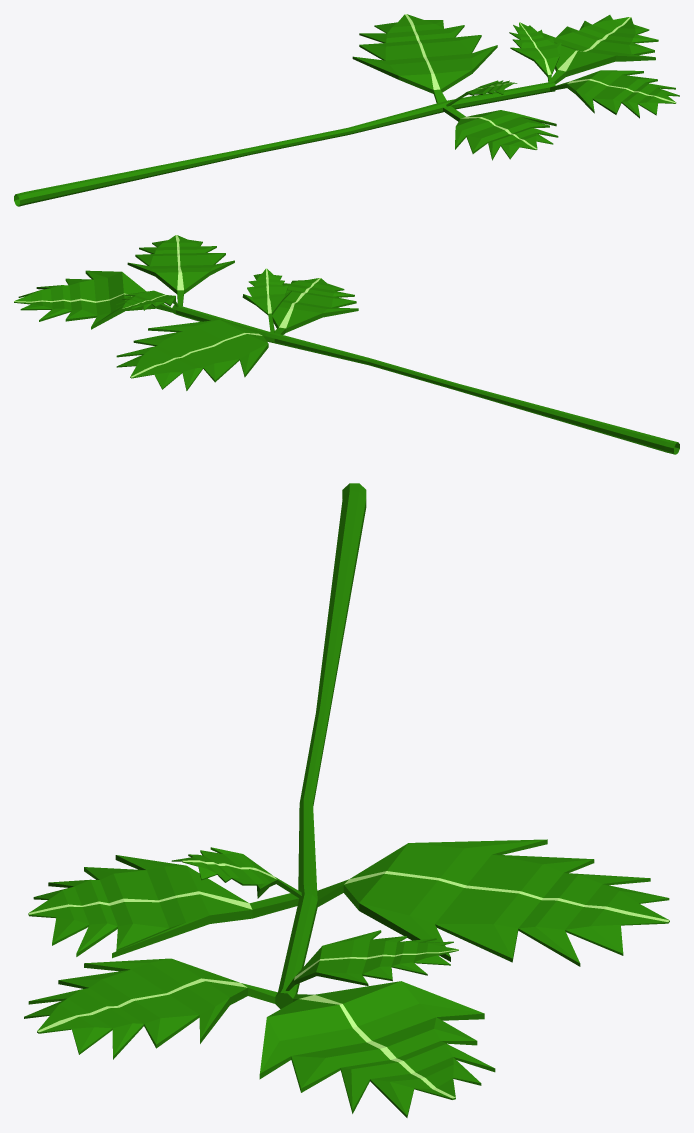
File: parsley01.fbx
3 views of the same model, one above another, from view 1: azimuth 30°, elevation 25°; view 2: azimuth 150°, elevation 25°; view 3: azimuth 270°, elevation 25° (orthographic). The views are drawn at different scales.
Visible parts, largest first — view 1: Cylinder; view 2: Cylinder; view 3: Cylinder.
Boxes of the visible parts, bbox=[...] form: Cylinder: bbox=[14, 14, 679, 206]; Cylinder: bbox=[14, 235, 679, 454]; Cylinder: bbox=[24, 483, 669, 1117].
Size of the model in its own units: 0.1405 by 0.00903 by 0.0609.
Materials: 1 (1 with a texture image).
